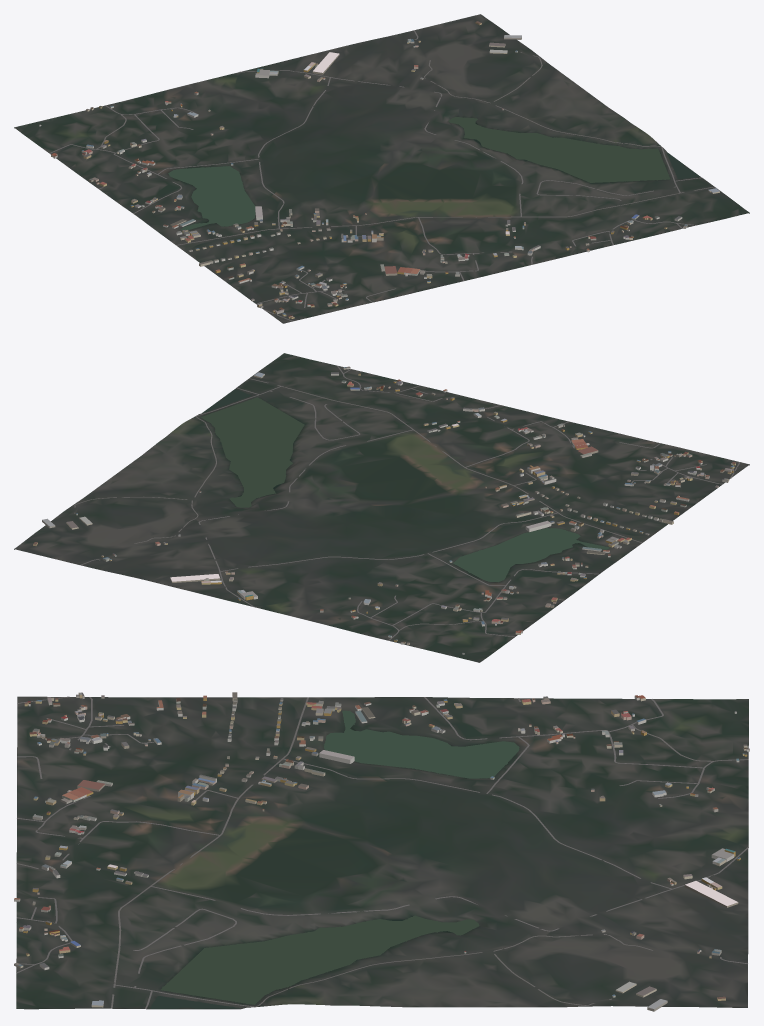
3 renders of one model, top to bottom at view 1: azimuth 30°, elevation 25°; view 2: azimuth 150°, elevation 25°; view 3: azimuth 270°, elevation 25°, orthographic. The views are drawn at different scales.
Visible parts, largest first — view 1: ground, water, buildings, roads; view 2: ground, water, buildings, roads; view 3: ground, water, buildings, roads.
Part boxes in pixels (x1,y1,x2,y2): ground: (14, 14, 749, 323); water: (168, 117, 699, 230); buildings: (39, 21, 719, 318); roads: (49, 30, 714, 321); ground: (14, 353, 749, 662); water: (201, 389, 609, 582); buildings: (33, 366, 735, 654); roads: (74, 365, 739, 640); ground: (16, 696, 748, 1009); water: (151, 710, 519, 1008); buildings: (14, 692, 749, 1011); roads: (16, 696, 748, 1008).
Size of the model in its own units: 1431 by 23.54 by 1410.
